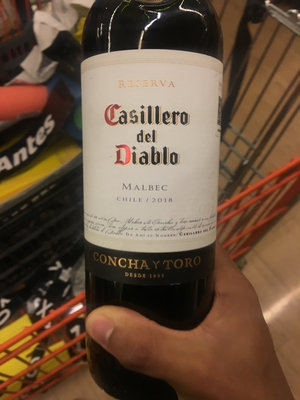casillero del diablo malbec: (73, 15, 233, 348)
